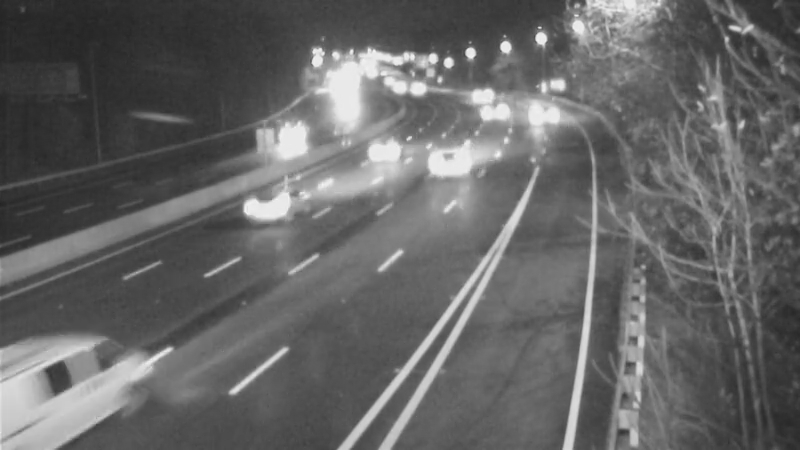vehicle: (9, 332, 119, 442), (341, 111, 421, 191), (411, 115, 491, 195), (231, 166, 311, 246), (374, 62, 424, 112), (392, 61, 442, 111), (451, 71, 501, 121), (509, 85, 559, 135), (467, 79, 517, 129), (272, 112, 322, 162)
